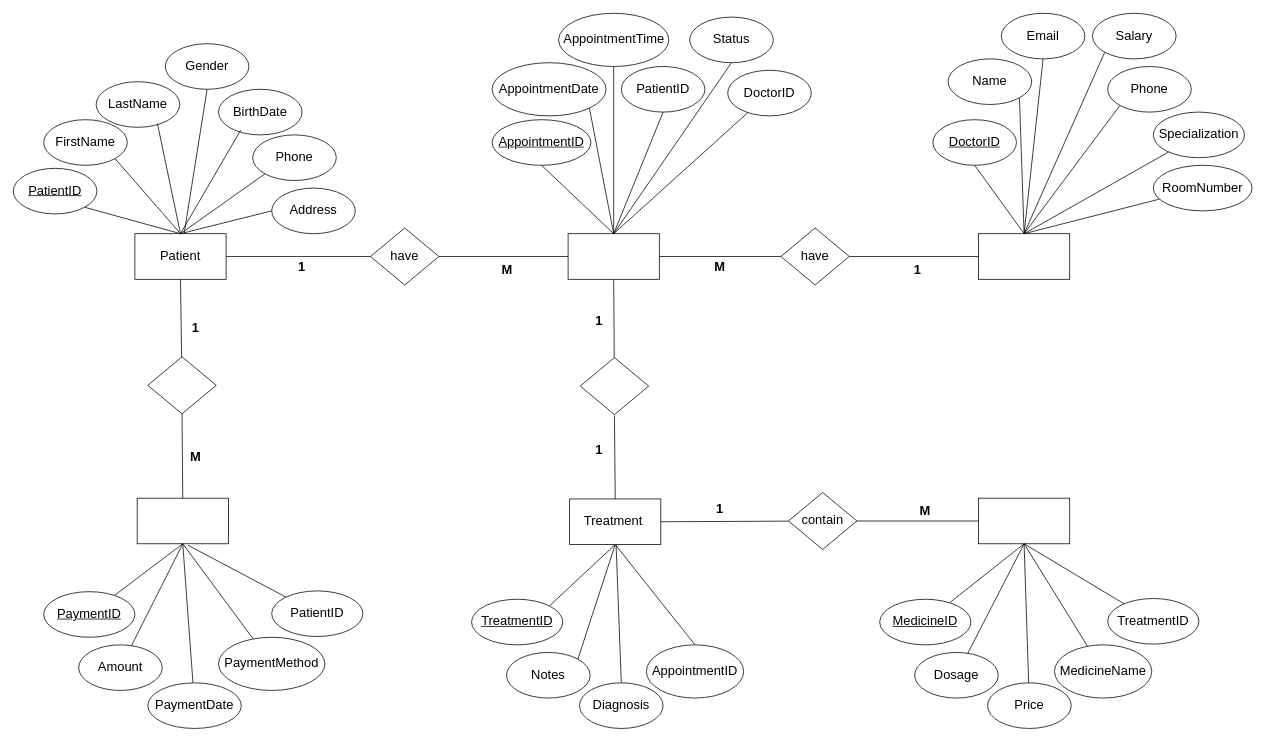
Some shapes in this 1265 by 742 pixel diagram are drawn without their labels. Here are the shapes that lost their labels. From the top down, the centre of each, then its label:
At [613,256]: "Appointment".
At [1024,256]: "Doctor".
At [181,385]: "make".
At [614,386]: "results".
At [182,520]: "Payment".
At [1024,520]: "Medicine".
